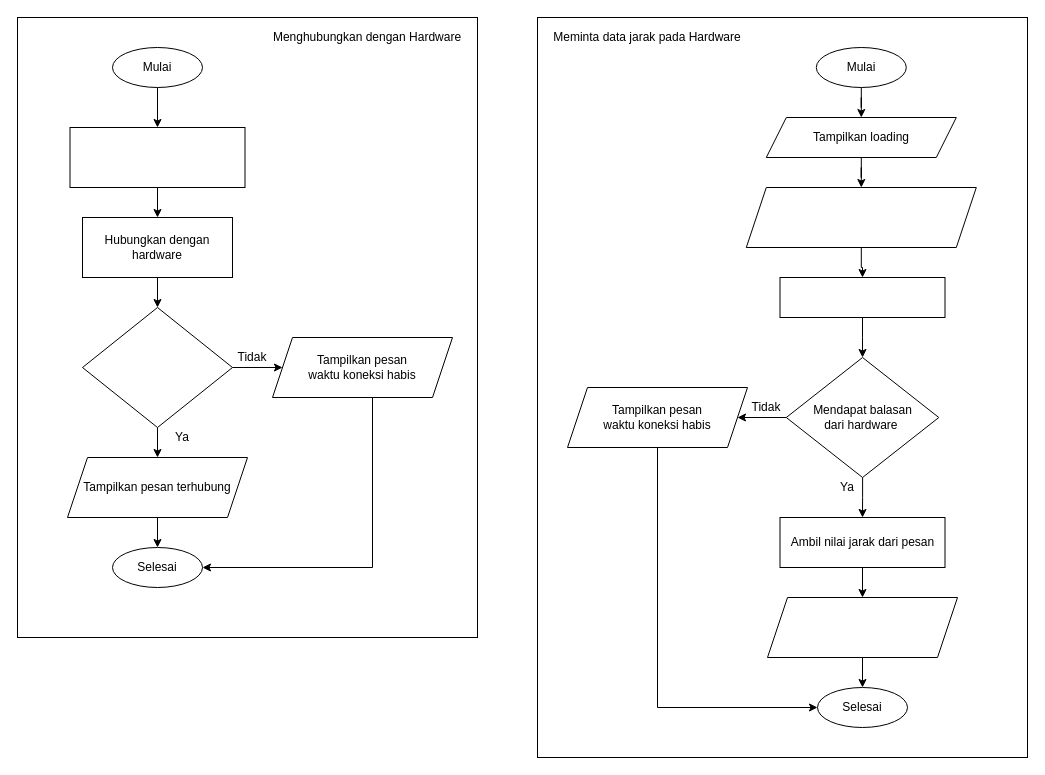
Some shapes in this 1045 by 775 pixel diagram are drawn without their labels. The shapes that lost their labels are listed below. From the top down, each one's box as (x1, y1, x2, y2) in pixels, then its label:
(69, 126, 245, 188): Ambil alamat hardware pada pengaturan aplikasi
(745, 186, 976, 248): Krimkan pesan pada hardware untuk meminta data jarak
(779, 276, 945, 318): Tunggu Selama 5 detik
(82, 306, 232, 428): Terhubung dengan hardware
(766, 596, 958, 658): Tampilkan jarak pada field yang aktif
